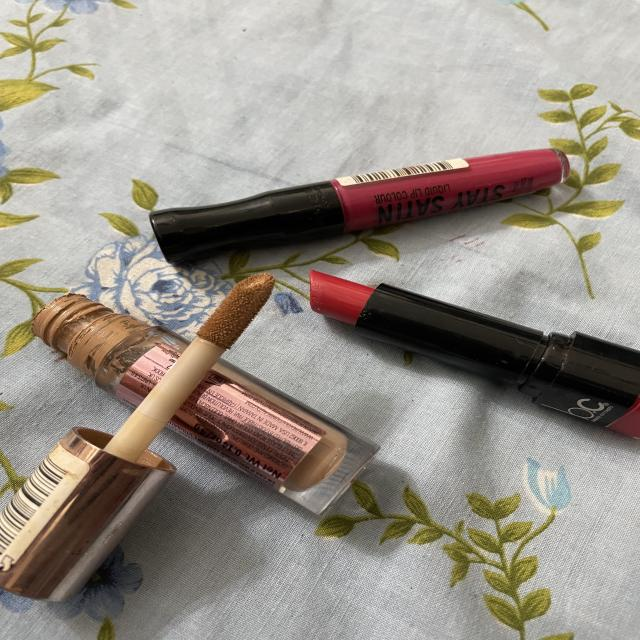concealer: (0, 261, 293, 524), (165, 260, 304, 366)
lip gloss: (134, 138, 604, 269)
lip stick: (295, 247, 640, 442)
